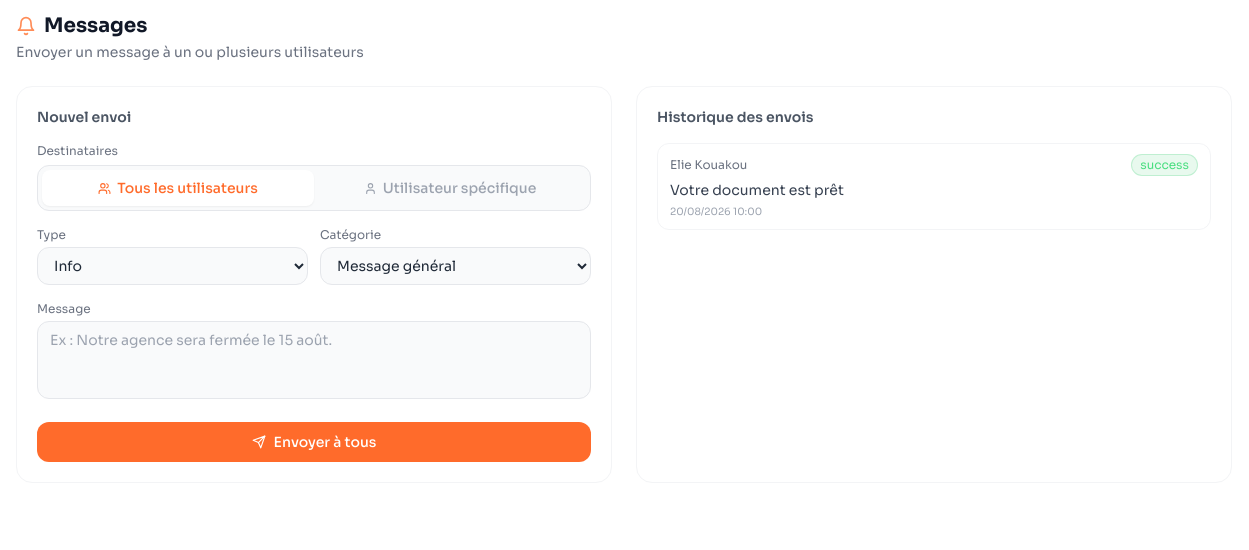
Test: AdminMessagesPage › envoie un message à tous les utilisateurs
Type "Agence fermée lundi" into the text box with placeholder "Ex : Notre agence sera fermée le 15 août." at (314, 360), box [37,321,591,399]
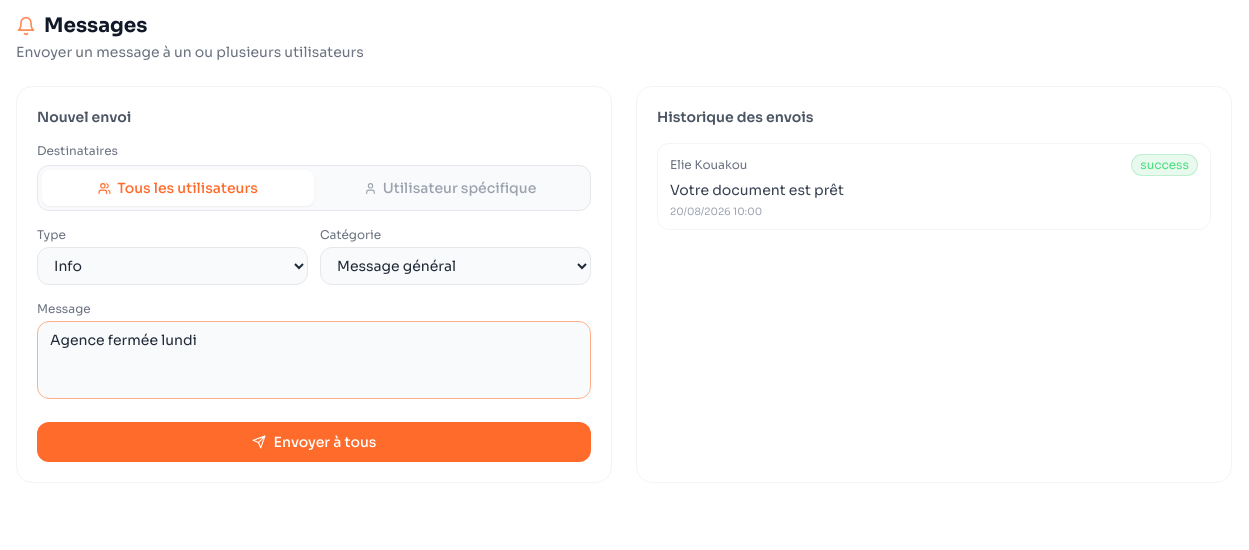
Click the button "Envoyer à tous" at (314, 442), box [37,422,591,462]
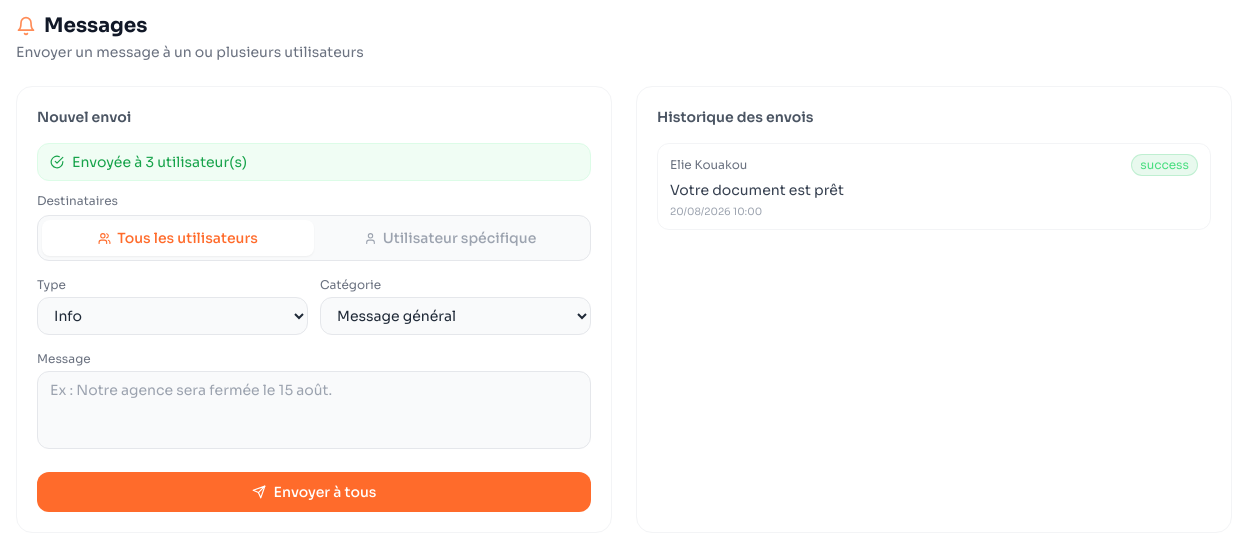
Expected: the text "Envoyée à 3 utilisateur(s)" is shown, [37,143,591,181]
